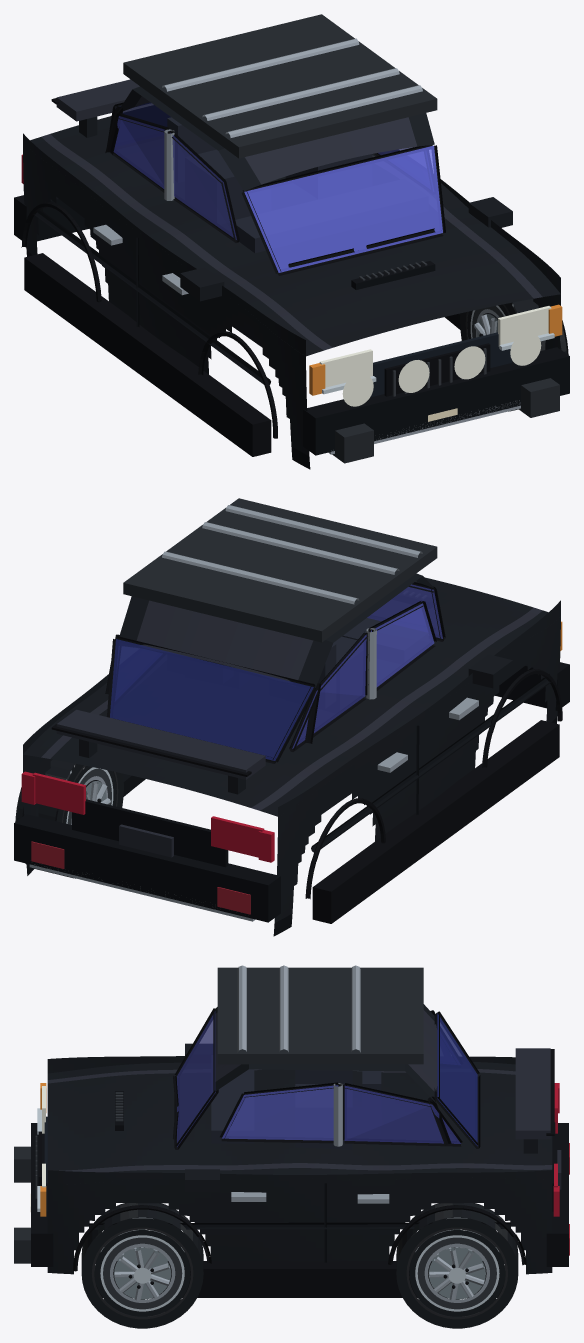
The model's file is black_maria_complete_rally.obj.
3 views of the same model, one above another, from view 1: azimuth 30°, elevation 25°; view 2: azimuth 150°, elevation 25°; view 3: azimuth 270°, elevation 25° (orthographic). The views are drawn at different scales.
Visible parts, largest first — view 1: BODY_HOOD, ROOF_RACK, BODY_SIDE, FRONT_GLASS, MUDGUARDS, BUMPERS, ROOF, DASHBOARD, WINDOW_FRAMES, SEATS, RACK_CROSSBARS, FRONT_SIDE_GLASS (+18 smaller); view 2: BODY_HOOD, ROOF_RACK, BODY_SIDE, REAR_GLASS, BUMPERS, MUDGUARDS, ROOF, REAR_WING, RACK_CROSSBARS, WINDOW_FRAMES, END_PANEL, REAR_LIGHTS (+18 smaller); view 3: BODY_HOOD, BODY_SIDE, ROOF_RACK, WHEEL_SIDE, MUDGUARDS, WINDOW_FRAMES, FRONT_SIDE_GLASS, REAR_SIDE_GLASS, BUMPERS, ROOF, REAR_WING, SEATS (+16 smaller).
Boxes of the visible parts, x1=… form: BODY_HOOD: x1=30, y1=116, x2=560, y2=356; ROOF_RACK: x1=123, y1=14, x2=437, y2=158; BODY_SIDE: x1=23, y1=133, x2=560, y2=469; FRONT_GLASS: x1=244, y1=145, x2=442, y2=272; MUDGUARDS: x1=24, y1=253, x2=508, y2=456; BUMPERS: x1=14, y1=195, x2=569, y2=455; ROOF: x1=117, y1=86, x2=434, y2=190; DASHBOARD: x1=231, y1=179, x2=427, y2=252; WINDOW_FRAMES: x1=107, y1=102, x2=445, y2=275; SEATS: x1=185, y1=149, x2=372, y2=224; RACK_CROSSBARS: x1=162, y1=38, x2=422, y2=137; FRONT_SIDE_GLASS: x1=170, y1=132, x2=433, y2=239; BODY_HOOD: x1=23, y1=577, x2=560, y2=816; ROOF_RACK: x1=123, y1=498, x2=437, y2=642; BODY_SIDE: x1=23, y1=600, x2=560, y2=936; REAR_GLASS: x1=110, y1=639, x2=313, y2=760; BUMPERS: x1=14, y1=662, x2=569, y2=922; MUDGUARDS: x1=55, y1=720, x2=559, y2=923; ROOF: x1=119, y1=573, x2=434, y2=687; REAR_WING: x1=56, y1=709, x2=265, y2=779; RACK_CROSSBARS: x1=162, y1=505, x2=422, y2=604; WINDOW_FRAMES: x1=107, y1=582, x2=445, y2=763; END_PANEL: x1=72, y1=799, x2=228, y2=867; REAR_LIGHTS: x1=32, y1=772, x2=264, y2=857; BODY_HOOD: x1=47, y1=1062, x2=552, y2=1184; BODY_SIDE: x1=47, y1=1056, x2=552, y2=1274; ROOF_RACK: x1=217, y1=967, x2=423, y2=1064; WHEEL_SIDE: x1=81, y1=1203, x2=518, y2=1328; MUDGUARDS: x1=96, y1=1261, x2=503, y2=1297; WINDOW_FRAMES: x1=174, y1=1008, x2=480, y2=1149; FRONT_SIDE_GLASS: x1=222, y1=1085, x2=338, y2=1140; REAR_SIDE_GLASS: x1=344, y1=1085, x2=460, y2=1143; BUMPERS: x1=31, y1=1123, x2=568, y2=1266; ROOF: x1=215, y1=1004, x2=437, y2=1103; REAR_WING: x1=515, y1=1048, x2=550, y2=1139; SEATS: x1=295, y1=1070, x2=352, y2=1149.
Size of the model in its own units: 2.06 by 1.75 by 3.48.
